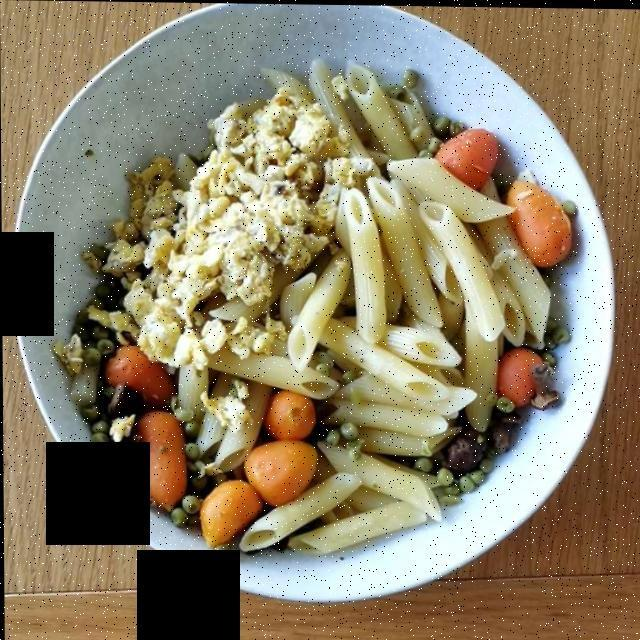carrot: (108, 123, 567, 549)
eggs: (82, 84, 338, 358)
pasta: (225, 62, 550, 558)
peas: (95, 428, 486, 521)
